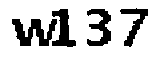1: (51, 8, 80, 53)
3: (85, 7, 115, 48)
7: (117, 7, 150, 50)
w: (9, 18, 55, 50)
